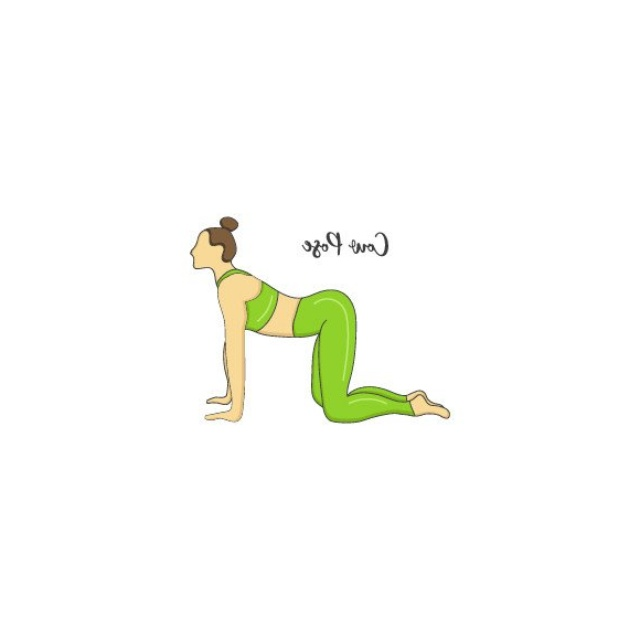Cow_Pose: (188, 218, 455, 425)
